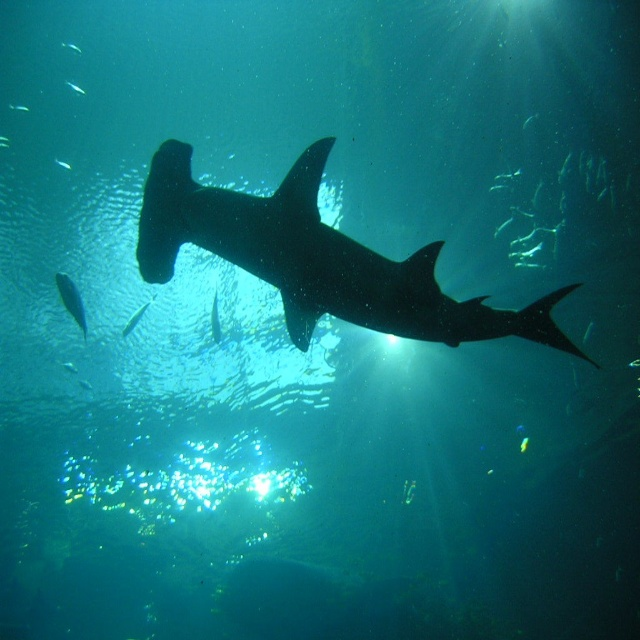Shark: (136, 138, 602, 368)
